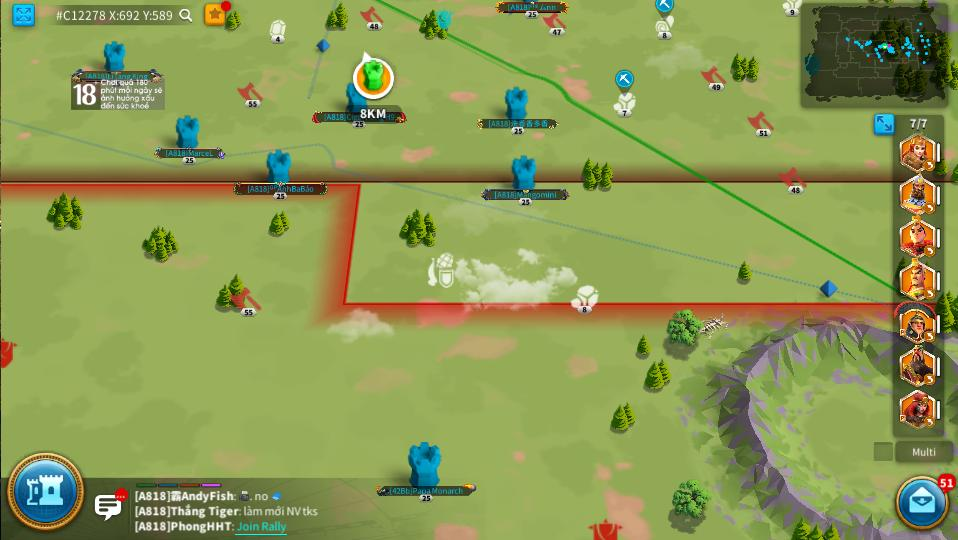gem-z-out: (269, 19, 286, 43)
march_idle: (231, 289, 260, 316), (782, 168, 809, 195), (748, 112, 773, 137), (702, 66, 727, 90)
march_returning: (924, 288, 935, 300), (924, 374, 936, 385), (924, 160, 935, 171), (924, 202, 935, 213), (925, 245, 935, 256), (925, 332, 935, 342), (925, 417, 935, 427)
